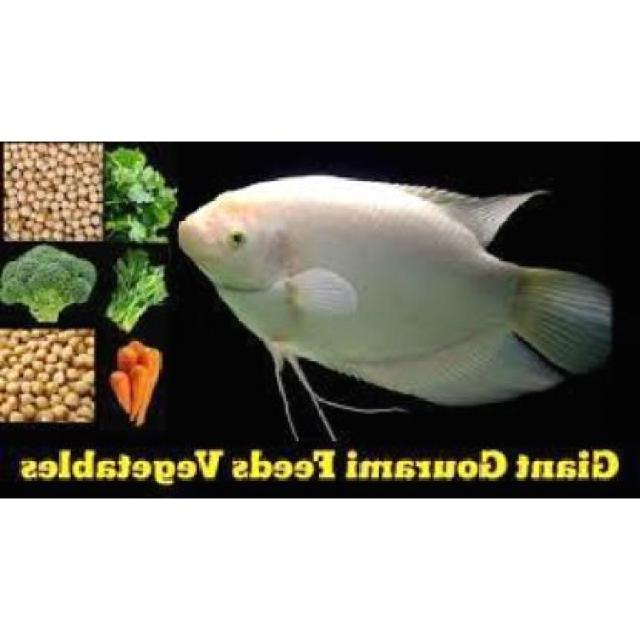gurame: (174, 173, 614, 430)
